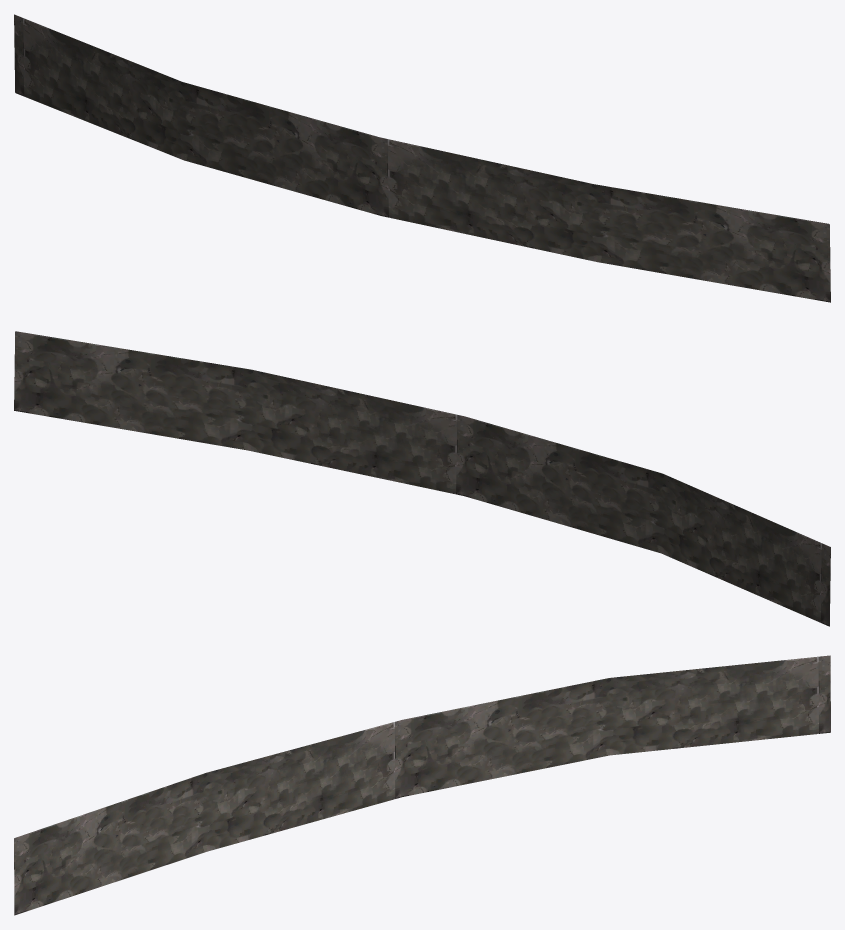
The model's file is CH09_SMAUG_PLAYSURFACE_LAIR20.fbx.
3 renders of one model, top to bottom at view 1: azimuth 30°, elevation 25°; view 2: azimuth 210°, elevation 25°; view 3: azimuth 270°, elevation 25°, orthographic. The views are drawn at different scales.
Visible parts, largest first — view 1: CH09_SMAUG_PLAYSURFACE_LAIR20; view 2: CH09_SMAUG_PLAYSURFACE_LAIR20; view 3: CH09_SMAUG_PLAYSURFACE_LAIR20.
Boxes of the visible parts, bbox=[...] form: CH09_SMAUG_PLAYSURFACE_LAIR20: bbox=[14, 14, 830, 302]; CH09_SMAUG_PLAYSURFACE_LAIR20: bbox=[14, 331, 830, 626]; CH09_SMAUG_PLAYSURFACE_LAIR20: bbox=[14, 655, 830, 915].
Bounding box in the file's own units: 79896 × 16050 × 147871.
1 material, 1 textured.
